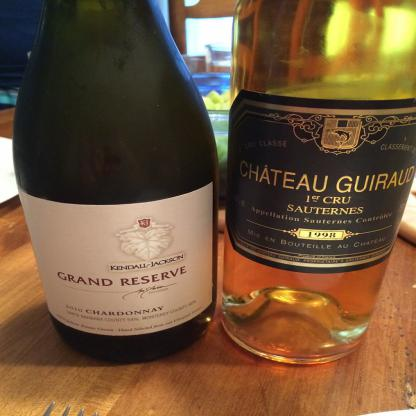drinking: (12, 0, 220, 365), (220, 0, 415, 365)
